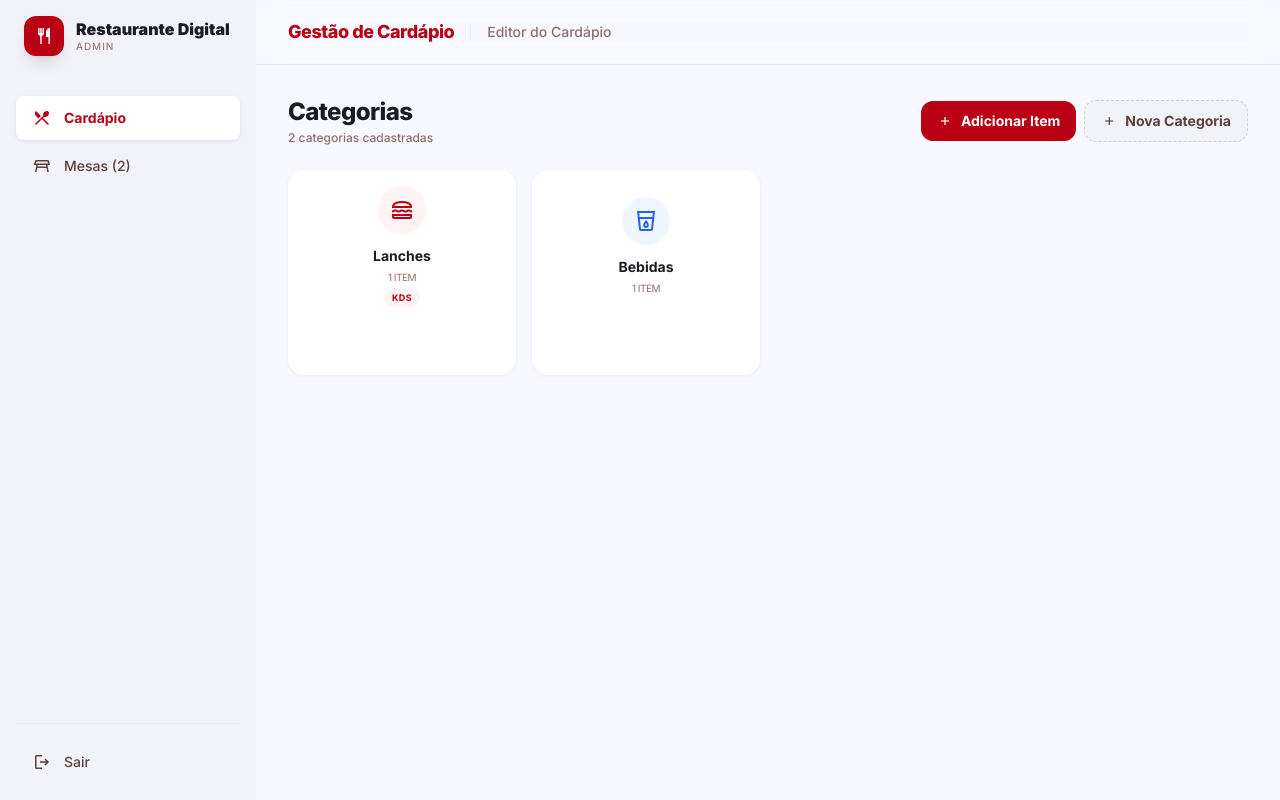
Test: AdminPage › Exclusao de item no modal de categoria › troca o modal de itens pela confirmacao de exclusao e volta ao cancelar
This screenshot has width=1280, height=800.
Click the text "Lanches".
click(402, 256)  # box [373, 246, 431, 266]
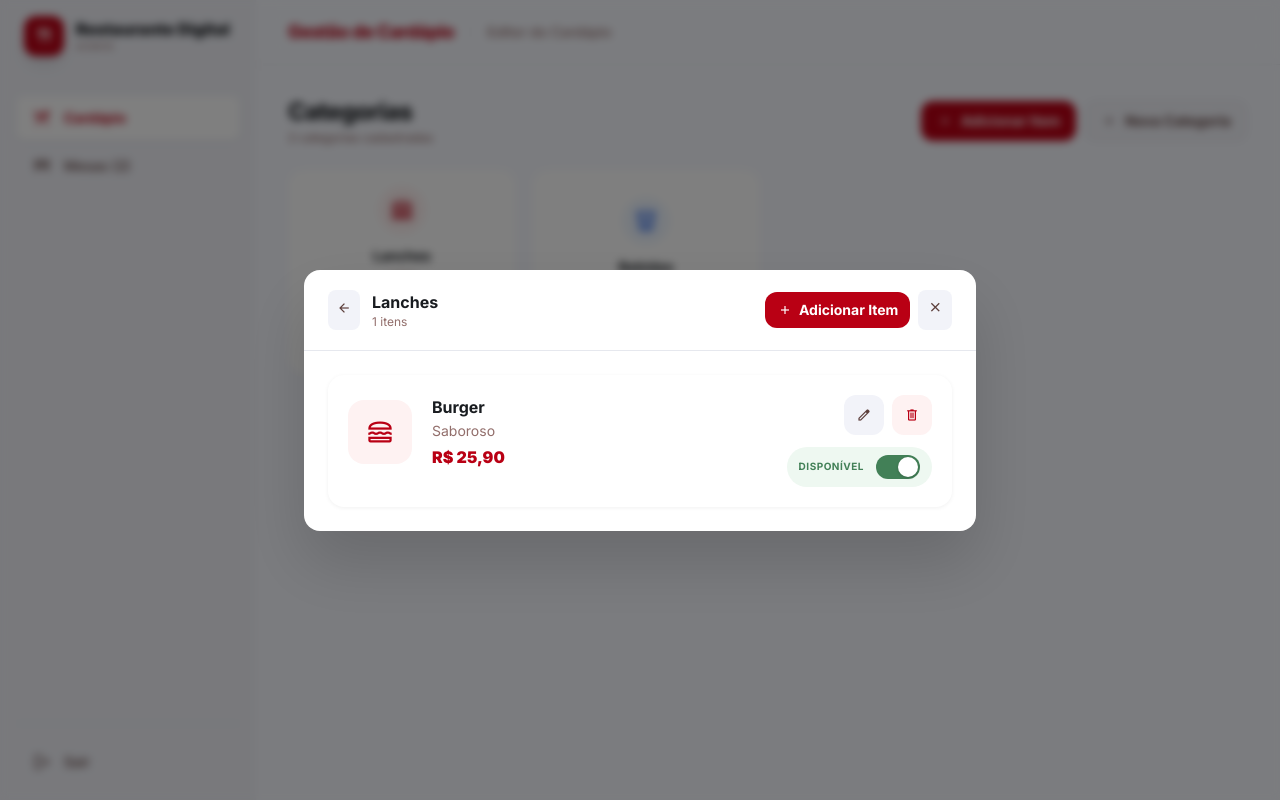
Now the heading "Burger" is shown, box [432, 396, 485, 416]
Click the button named "Excluir Burger".
click(912, 414)  # box [892, 394, 932, 434]
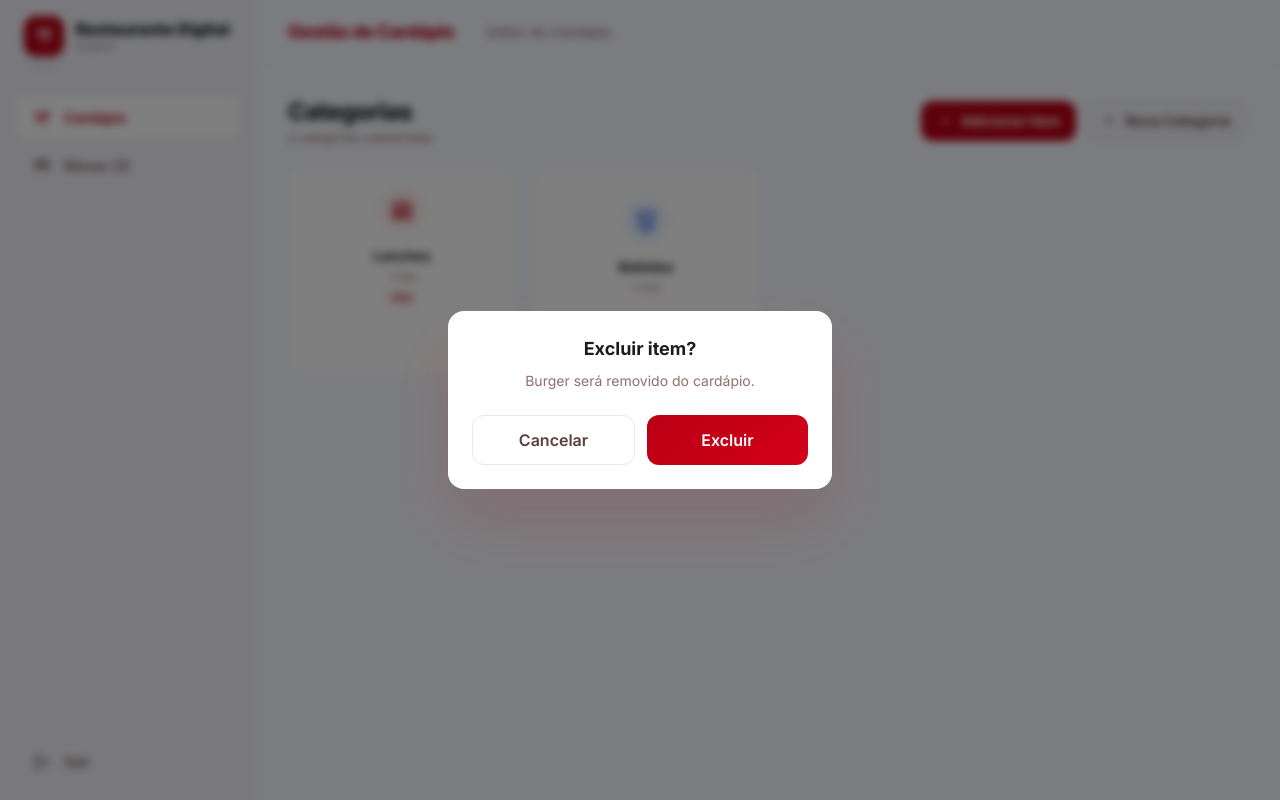
Now the heading "Excluir item?" is shown, box [584, 338, 696, 359]
Click the button "Cancelar".
click(554, 440)  # box [472, 415, 635, 465]
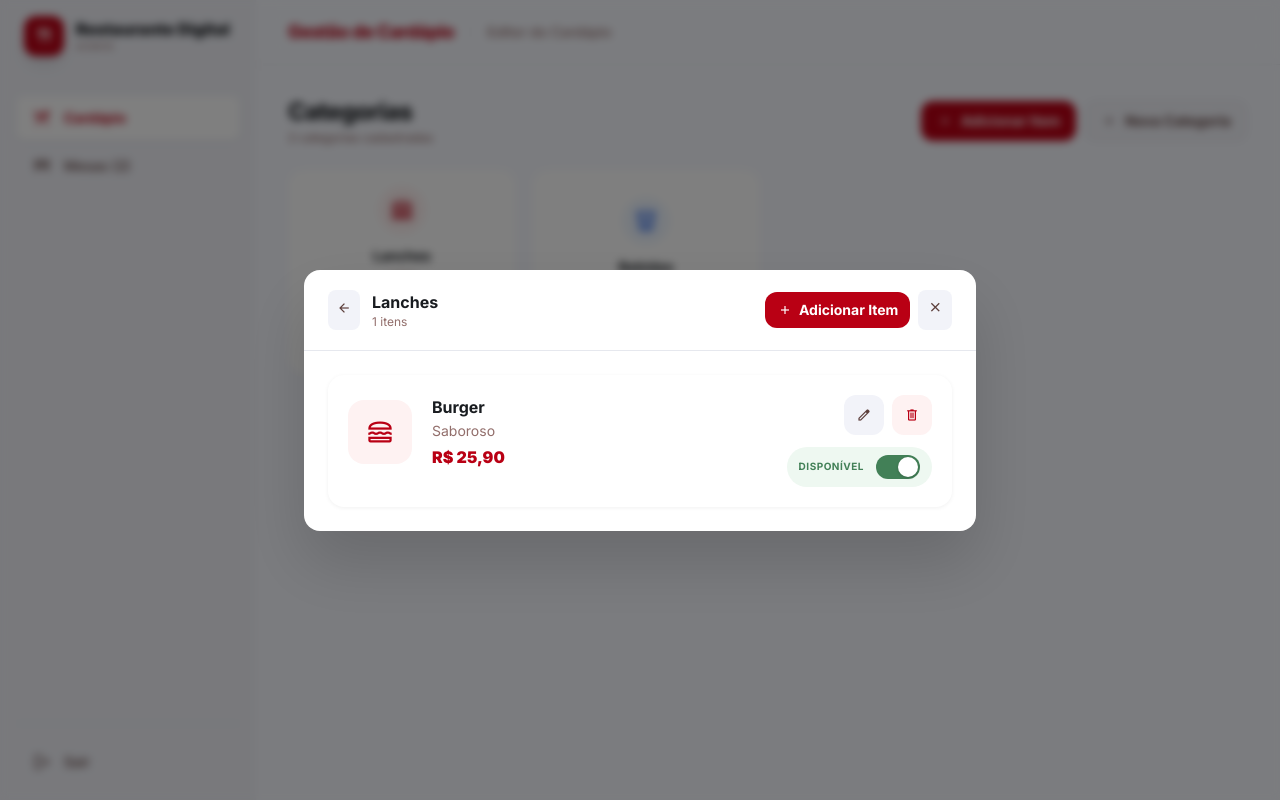
Now the heading "Burger" is shown, box [432, 396, 485, 416]
Now the heading "Excluir item?" is gone
